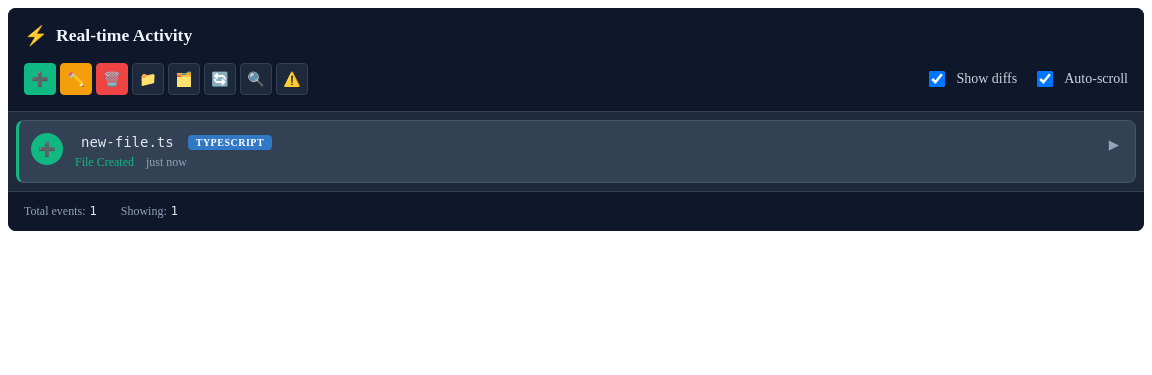
Test: ActivityFeed Component › should display symbols correctly with "more" indicator
Click the button with class "expand-button".
click(1114, 144)  # box [1105,133,1123,156]
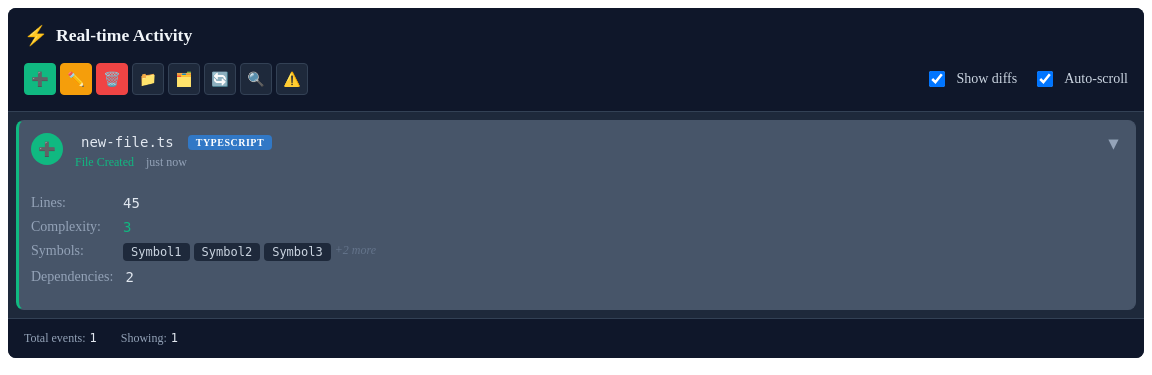
expect the text "Symbol1" is shown: met, box [123,243,190,261]
expect the text "Symbol2" is shown: met, box [194,243,260,261]
expect the text "Symbol3" is shown: met, box [264,243,331,261]
